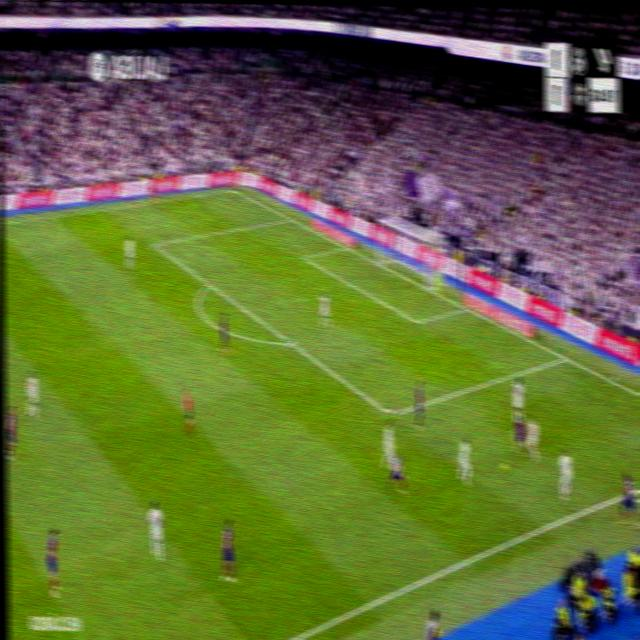bigarea_bottom_inner: (385, 403, 397, 423)
bigarea_bottom_outter: (559, 349, 570, 364)
bigarea_top_inner: (151, 237, 159, 250)
bigarea_top_outter: (286, 211, 294, 223)
bottom_arc_area_intersection: (285, 333, 297, 351)
corner: (230, 184, 238, 193)
smallarea_bottom_inner: (413, 312, 423, 331)
smallarea_bottom_outter: (461, 301, 470, 314)
smallarea_top_inner: (301, 252, 307, 260)
top_arc_area_intersection: (205, 276, 213, 290)
